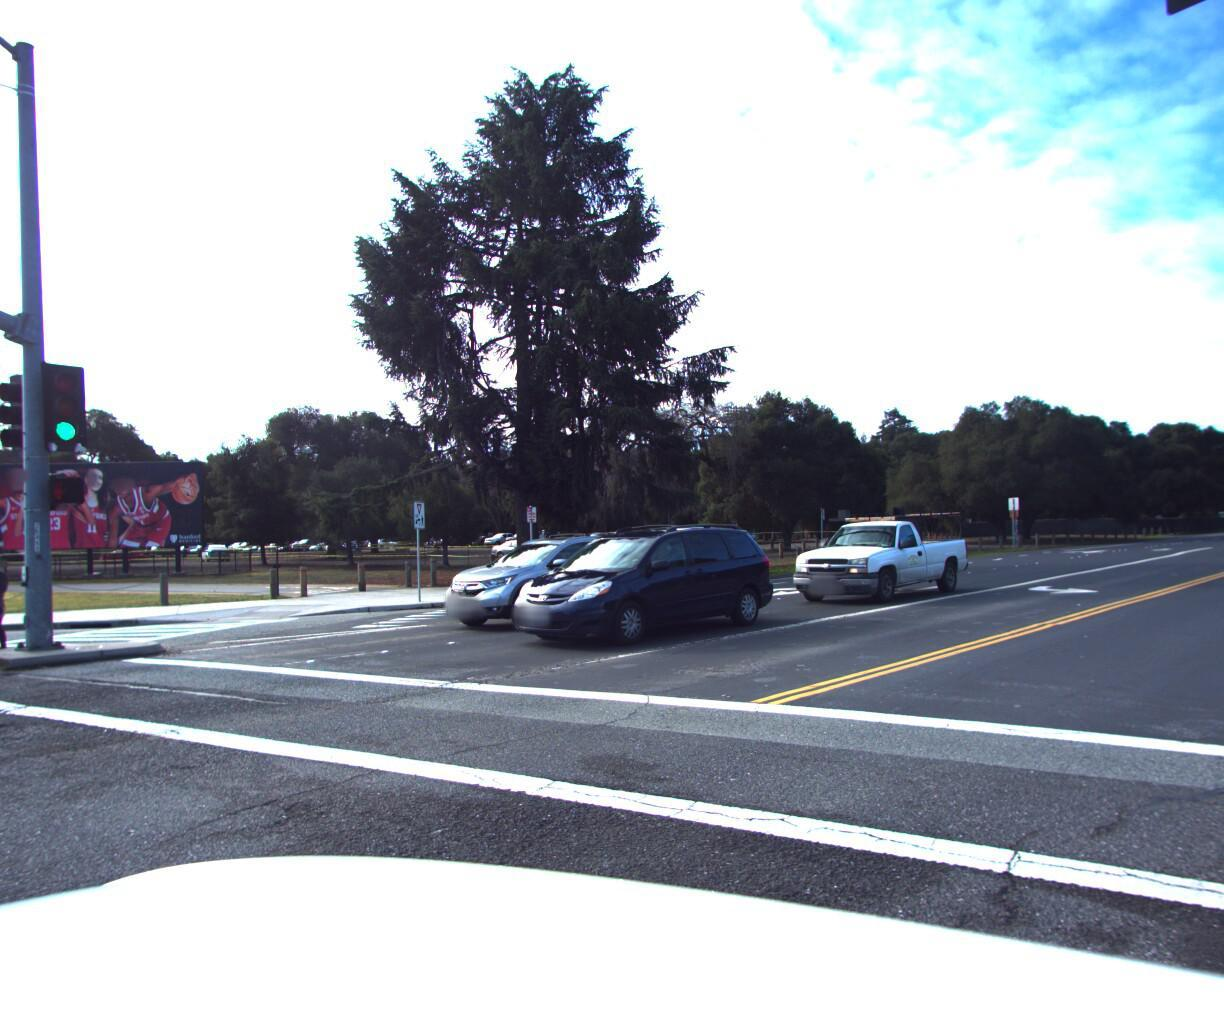car: (479, 513, 786, 651), (423, 528, 661, 636), (776, 497, 972, 604)
